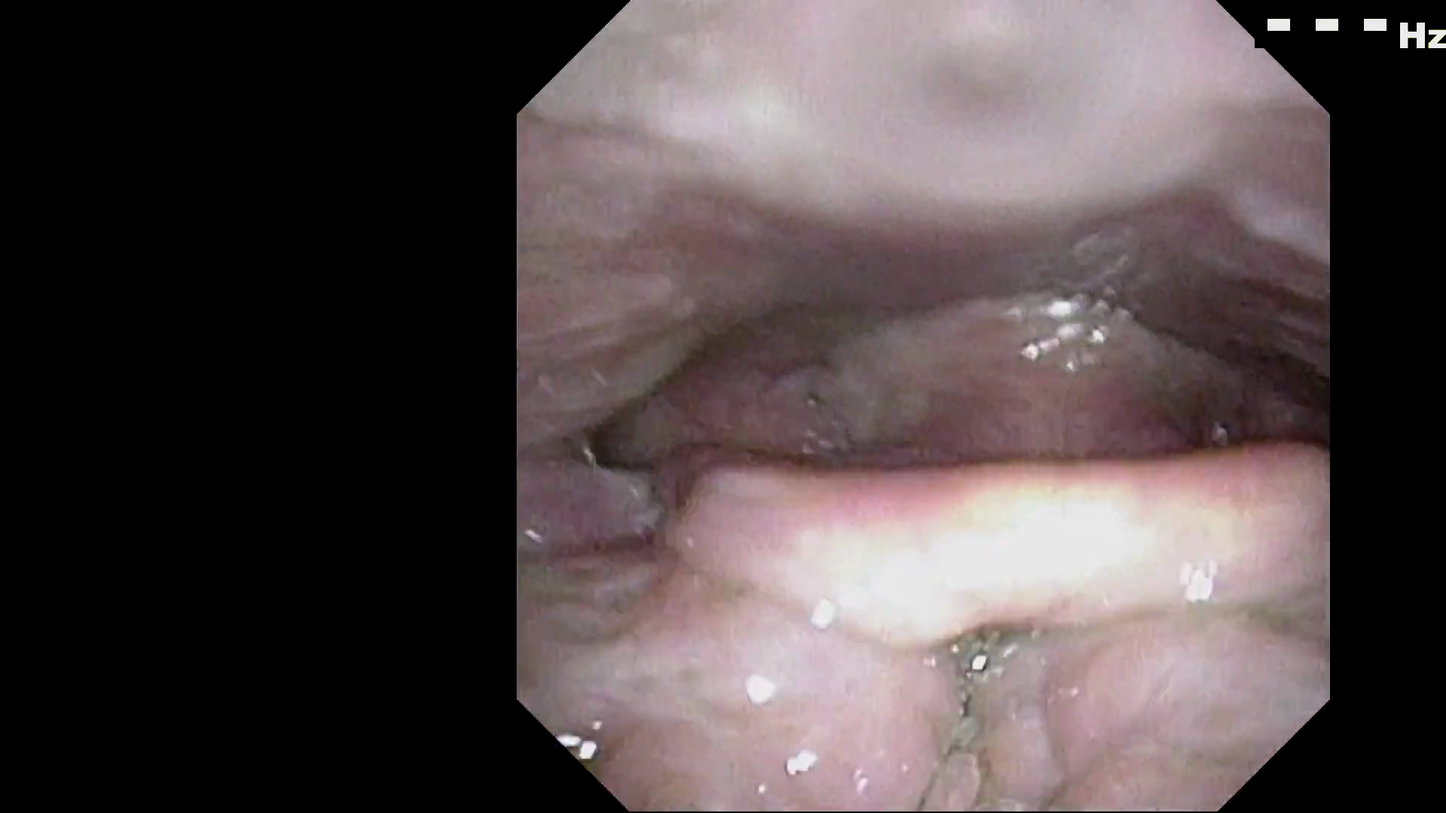epiglottis: (711, 426, 1260, 593)
